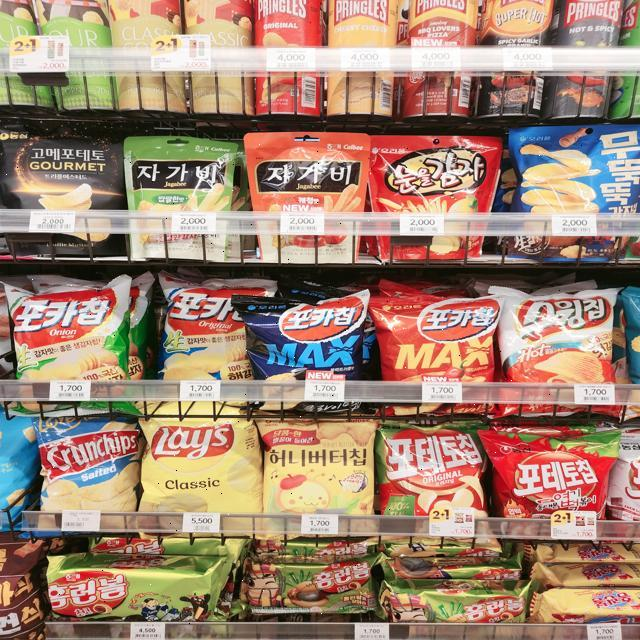product: (235, 293, 375, 426), (508, 127, 640, 265), (4, 279, 137, 411), (367, 410, 500, 542), (492, 283, 621, 419), (253, 411, 387, 541), (371, 291, 505, 419), (488, 419, 618, 550), (363, 134, 497, 261), (137, 405, 267, 534), (241, 129, 367, 260), (2, 129, 123, 259), (123, 135, 238, 263), (29, 413, 142, 531), (43, 563, 223, 629), (239, 559, 380, 617)
